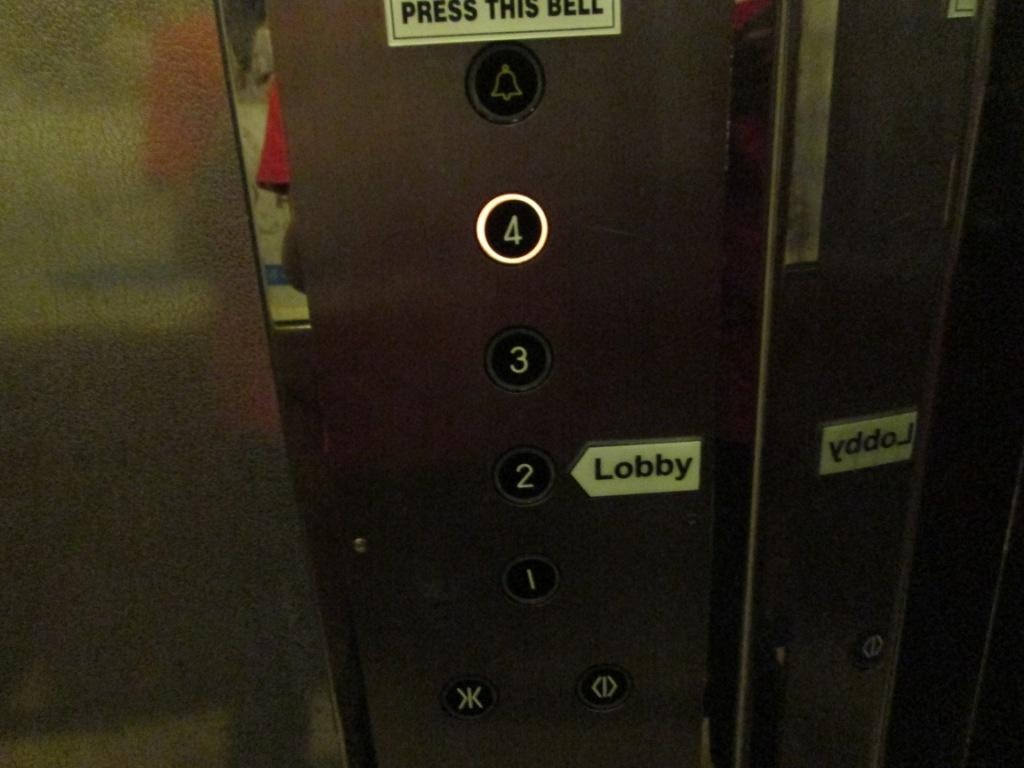1: (497, 551, 566, 610)
2: (489, 443, 558, 507)
3: (481, 327, 554, 393)
4: (473, 191, 552, 269)
alarm: (464, 41, 547, 129)
close: (438, 671, 500, 722)
open: (575, 659, 635, 714), (844, 622, 898, 671)
